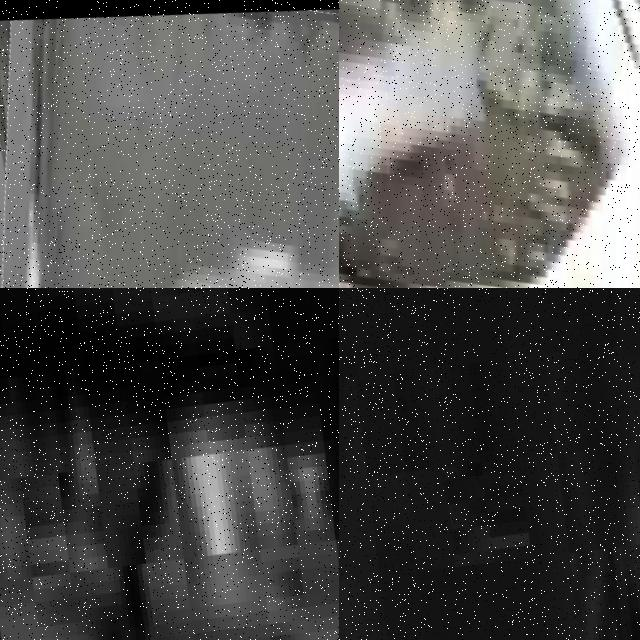drone: (0, 0, 339, 288), (339, 0, 640, 288)
